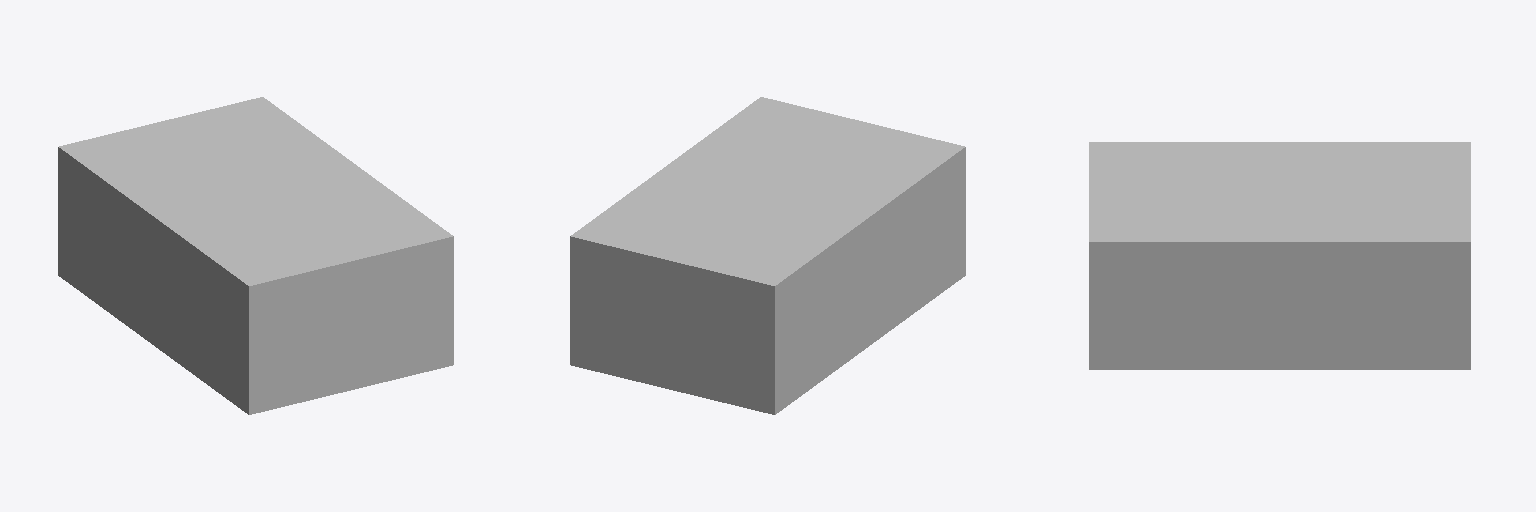
The model's file is level2.obj.
3 renders of one model, left to right at view 1: azimuth 30°, elevation 25°; view 2: azimuth 150°, elevation 25°; view 3: azimuth 270°, elevation 25°, orthographic.
Parts seen in each view (by area): view 1: b0_Cube; view 2: b0_Cube; view 3: b0_Cube.
Boxes of the visible parts, box(x1,y1,x2,y2) form: b0_Cube: box(58, 97, 453, 414); b0_Cube: box(570, 97, 965, 414); b0_Cube: box(1089, 142, 1470, 369).
Bounding box in the file's own units: 29.6 × 17.81 × 47.77.